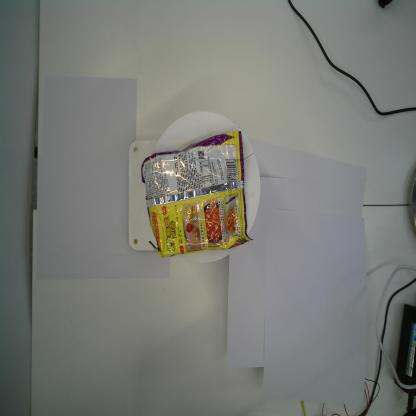Instant Noodles: (138, 128, 256, 262)
